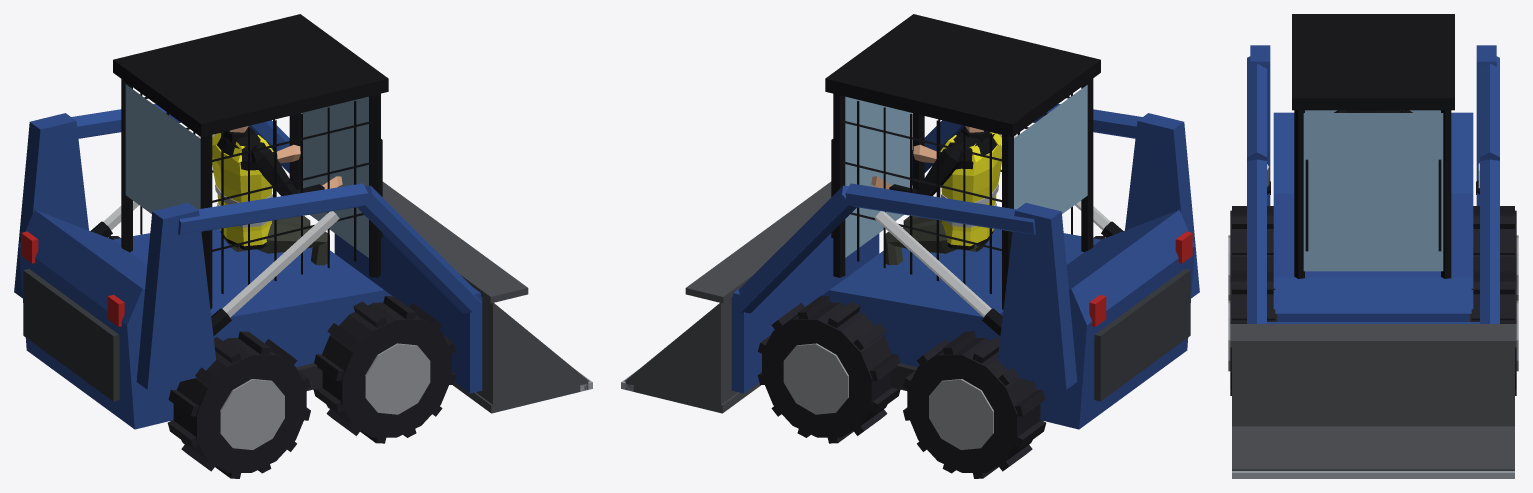
File: skid_steer.glb
The picture shows the model from 3 angles, left to right: view 1: azimuth 30°, elevation 25°; view 2: azimuth 150°, elevation 25°; view 3: azimuth 270°, elevation 25°; orthographic projection. The views are drawn at different scales.
Parts seen in each view (by area): view 1: Loader, Driver; view 2: Loader, Driver; view 3: Loader.
Part boxes in pixels (x1=…): Loader: x1=14, y1=14, x2=592, y2=478; Driver: x1=212, y1=126, x2=342, y2=265; Loader: x1=621, y1=14, x2=1199, y2=478; Driver: x1=871, y1=126, x2=1001, y2=265; Loader: x1=1228, y1=14, x2=1518, y2=478.
Size of the model in its own units: 2.87 by 2.03 by 1.74.
